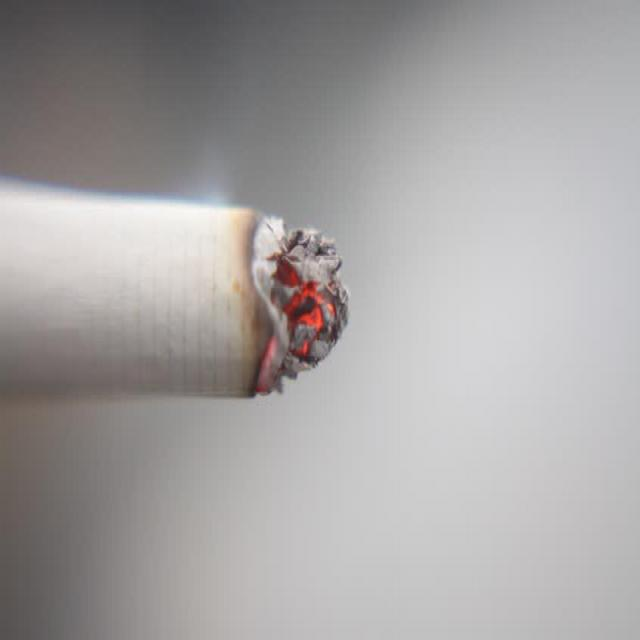cigarette: (0, 197, 356, 396)
